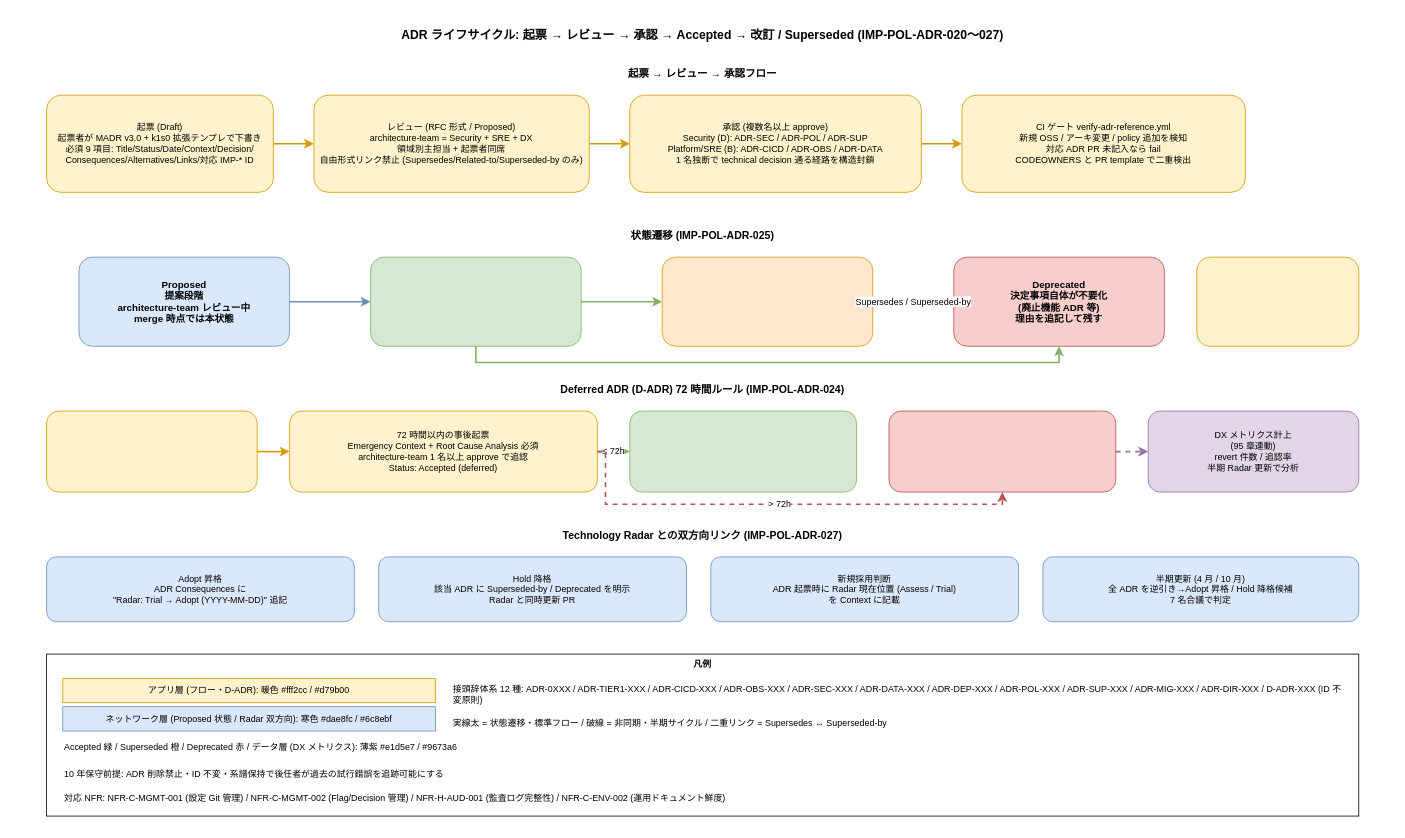
Some shapes in this 1405 by 838 pixel diagram are drawn without their labels. Here are the shapes that lost their labels. From the top down, the centre of each, then its label:
(475,301): Accepted 複数名以上 approve 後に更新 IMP-* 実装が追従 Radar 側も Adopt 昇格記録
(767,301): Superseded 後継 ADR で置換 Superseded-by: ADR-YYY で系譜保持 Radar と同時更新
(1277,301): ADR は 削除しない (IMP-POL-ADR-026) 試行錯誤の可視化を守る。検索性維持で後任者が "なぜ却下されたか" を追跡可能に。
(151,451): 緊急インシデント対応 事前 ADR 迂回 接頭辞 D-ADR-XXX 通常 ADR と別連番
(743,451): 追認成立 Accepted (deferred) で取り込み IMP-* 実装に反映
(1002,451): 72 時間超過 インシデント扱い NFR-E-SIR-001 Runbook に則り事後対応 追認されなければ 1 週間以内に revert
